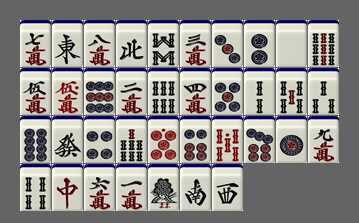0m: (52, 68, 83, 115)
0p: (148, 116, 179, 163)
0s: (212, 116, 243, 163)
1m: (116, 164, 147, 211)
1p: (276, 116, 307, 163)
1s: (148, 164, 179, 211)
1z: (52, 20, 83, 67)
2m: (116, 68, 147, 115)
2p: (244, 20, 275, 67)
2s: (244, 68, 275, 115)
2z: (180, 164, 211, 211)
3m: (180, 20, 211, 67)
3p: (212, 20, 243, 67)
3s: (308, 68, 339, 115)
3z: (212, 164, 243, 211)
4m: (180, 68, 211, 115)
4p: (84, 116, 115, 163)
4s: (20, 164, 51, 211)
4z: (116, 20, 147, 67)
5m: (20, 68, 51, 115)
5p: (212, 68, 243, 115)
5s: (276, 68, 307, 115)
5z: (276, 20, 307, 67)
6m: (84, 164, 115, 211)
6p: (180, 116, 211, 163)
6s: (148, 68, 179, 115)
6z: (52, 116, 83, 163)
7m: (20, 20, 51, 67)
7p: (244, 116, 275, 163)
7s: (116, 116, 147, 163)
7z: (52, 164, 83, 211)
8m: (84, 20, 115, 67)
8p: (20, 116, 51, 163)
8s: (148, 20, 179, 67)
9m: (308, 116, 339, 163)
9p: (84, 68, 115, 115)
9s: (308, 20, 339, 67)
